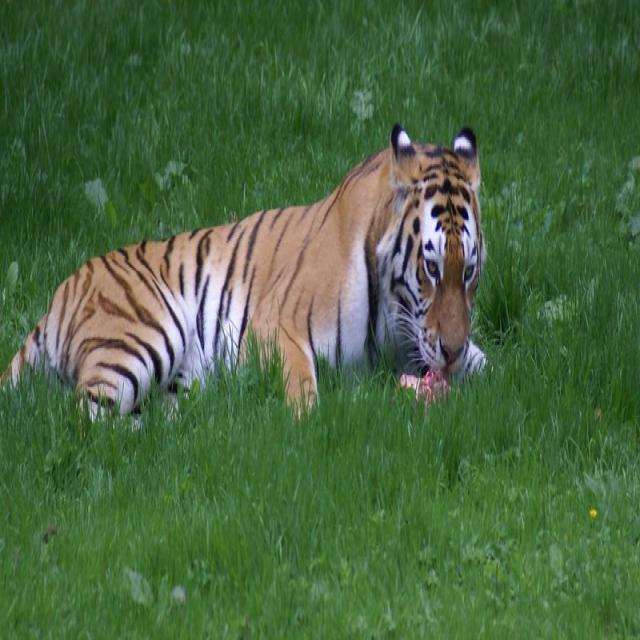Tiger: (25, 121, 479, 426)
